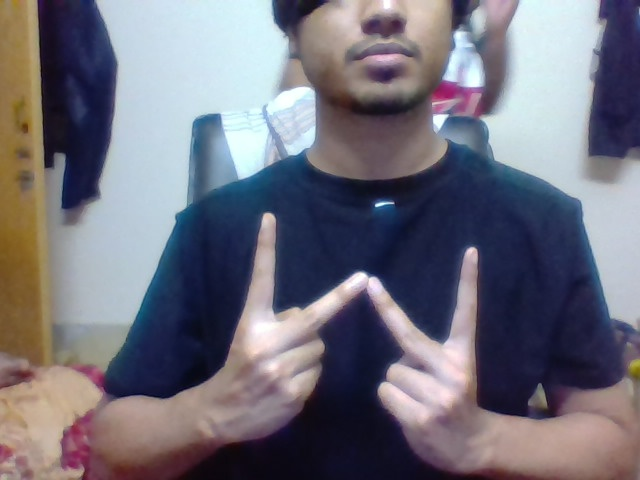W: (242, 204, 483, 351)
